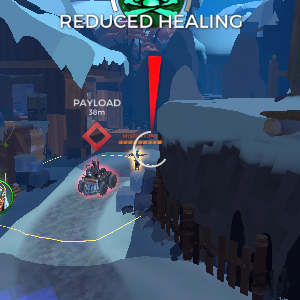model: (129, 147, 145, 175)
